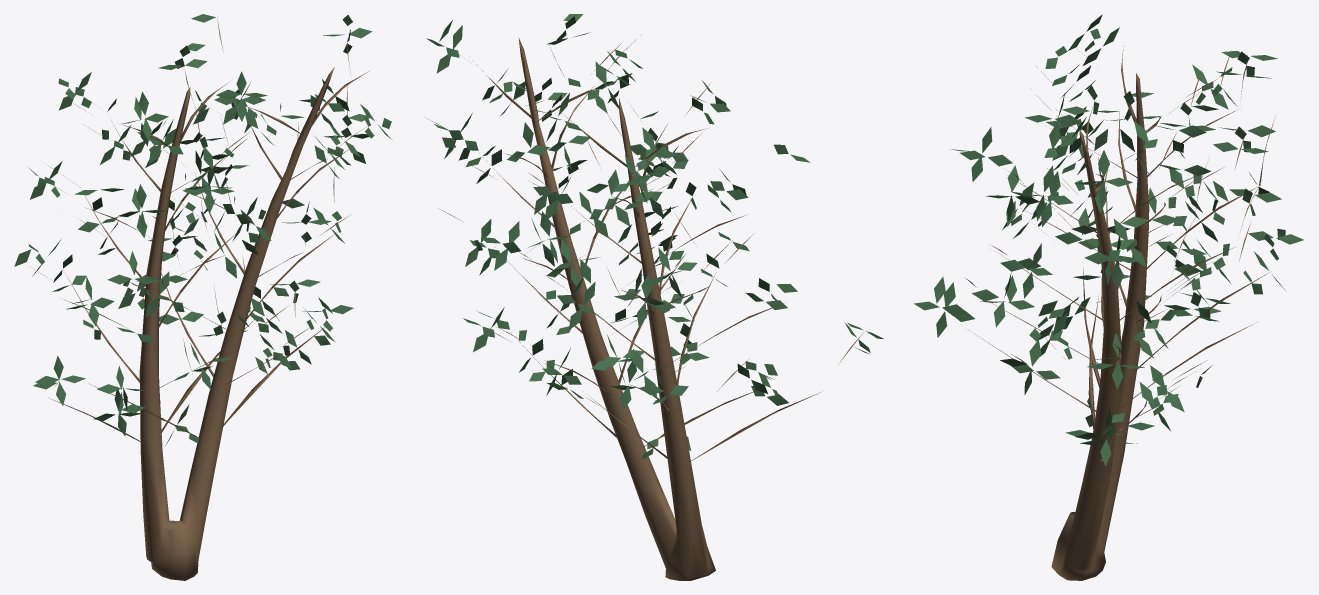
File: Myrte_2_Niveau2.fbx
The picture shows the model from 3 angles, left to right: view 1: azimuth 30°, elevation 25°; view 2: azimuth 150°, elevation 25°; view 3: azimuth 270°, elevation 25°; orthographic projection. The views are drawn at different scales.
Parts seen in each view (by area): view 1: Myrte_2_Niveau2; view 2: Myrte_2_Niveau2; view 3: Myrte_2_Niveau2.
Part boxes in pixels (left/top/right/bottom): Myrte_2_Niveau2: left=14, top=14, right=392, bottom=580; Myrte_2_Niveau2: left=425, top=14, right=883, bottom=580; Myrte_2_Niveau2: left=914, top=14, right=1303, bottom=580.
Bounding box in the file's own units: 124 × 152 × 96.53.
